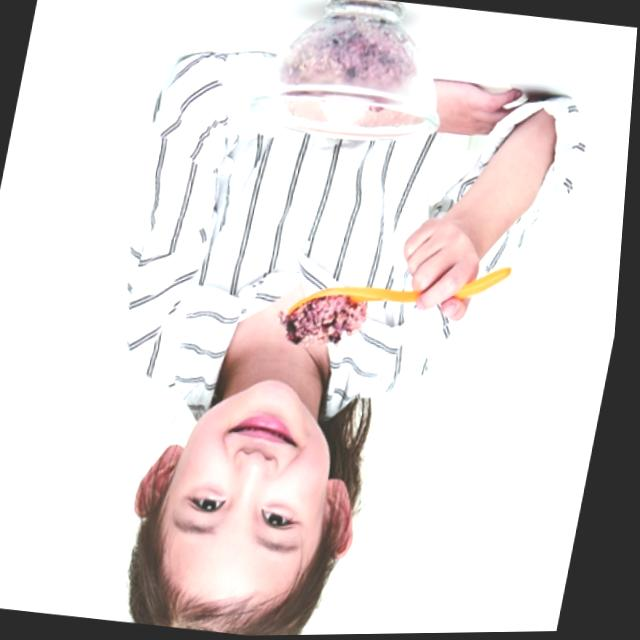eating-person: (32, 0, 618, 639)
